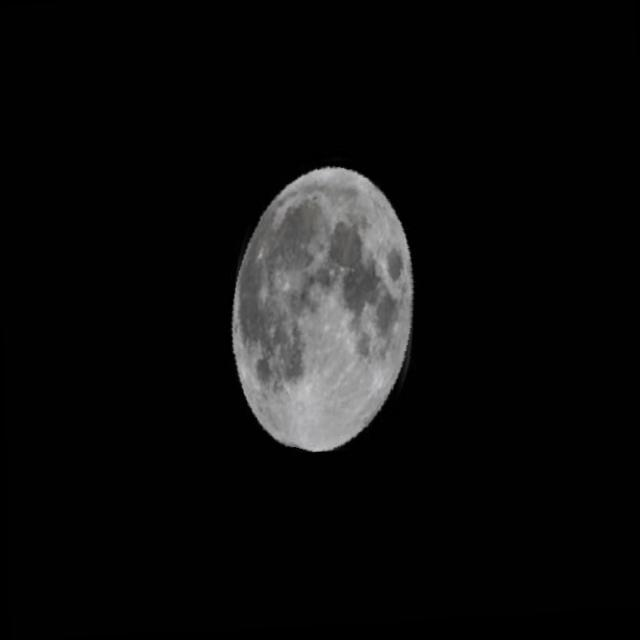moon: (215, 142, 430, 459)
